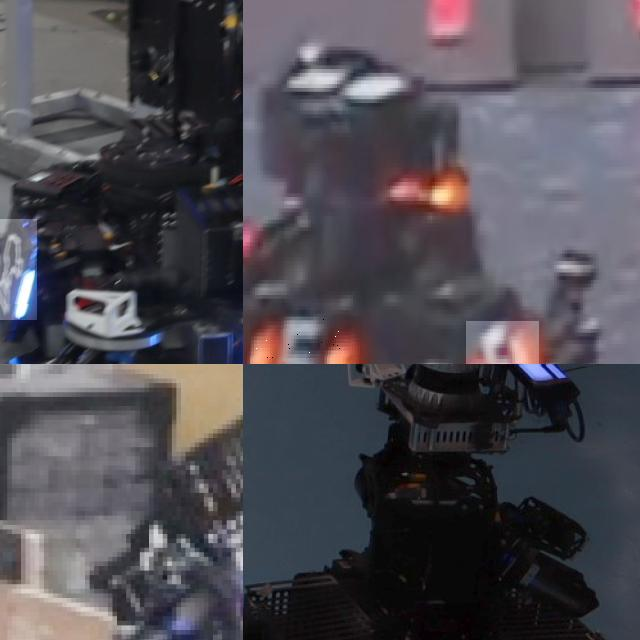Bs: (0, 218, 37, 320)
R5: (249, 315, 363, 364), (466, 321, 540, 364)
